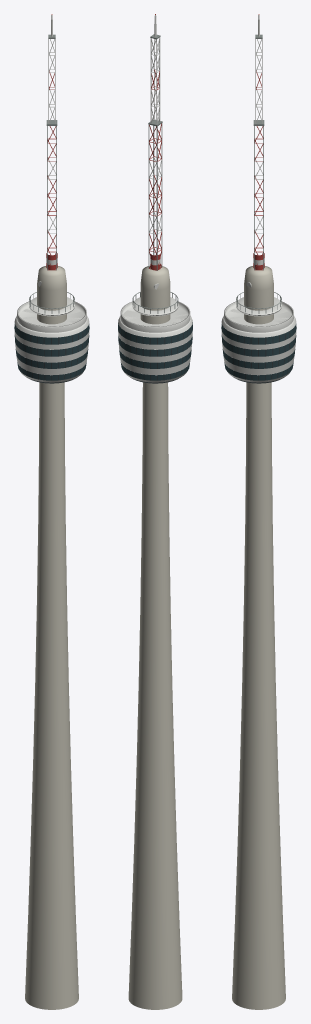
Rendered from fernsehturm-stuttgart-far.glb.
The picture shows the model from 3 angles, left to right: view 1: azimuth 90°, elevation 25°; view 2: azimuth 150°, elevation 25°; view 3: azimuth 270°, elevation 25°; orthographic projection.
Visible parts, largest first — view 1: fernsehturm-stuttgart-0-concrete, fernsehturm-stuttgart-0-aluminium, fernsehturm-stuttgart-0-glow, fernsehturm-stuttgart-0-steel, fernsehturm-stuttgart-0-dark, fernsehturm-stuttgart-0-red; view 2: fernsehturm-stuttgart-0-concrete, fernsehturm-stuttgart-0-aluminium, fernsehturm-stuttgart-0-glow, fernsehturm-stuttgart-0-steel, fernsehturm-stuttgart-0-red, fernsehturm-stuttgart-0-dark; view 3: fernsehturm-stuttgart-0-concrete, fernsehturm-stuttgart-0-aluminium, fernsehturm-stuttgart-0-glow, fernsehturm-stuttgart-0-steel, fernsehturm-stuttgart-0-dark, fernsehturm-stuttgart-0-red.
Boxes of the visible parts, x1,y1,x2,y2 form: fernsehturm-stuttgart-0-concrete: [25, 266, 78, 1009]; fernsehturm-stuttgart-0-aluminium: [14, 15, 89, 382]; fernsehturm-stuttgart-0-glow: [14, 323, 89, 380]; fernsehturm-stuttgart-0-steel: [29, 34, 74, 313]; fernsehturm-stuttgart-0-dark: [15, 325, 89, 383]; fernsehturm-stuttgart-0-red: [46, 70, 57, 270]; fernsehturm-stuttgart-0-concrete: [128, 266, 182, 1009]; fernsehturm-stuttgart-0-aluminium: [118, 15, 192, 382]; fernsehturm-stuttgart-0-glow: [118, 322, 192, 380]; fernsehturm-stuttgart-0-steel: [132, 34, 178, 313]; fernsehturm-stuttgart-0-red: [149, 69, 161, 270]; fernsehturm-stuttgart-0-dark: [118, 326, 192, 383]; fernsehturm-stuttgart-0-concrete: [232, 266, 285, 1009]; fernsehturm-stuttgart-0-aluminium: [221, 15, 296, 382]; fernsehturm-stuttgart-0-glow: [221, 323, 296, 380]; fernsehturm-stuttgart-0-steel: [236, 34, 281, 313]; fernsehturm-stuttgart-0-dark: [222, 325, 296, 383]; fernsehturm-stuttgart-0-red: [253, 70, 264, 270].
Size of the model in its own units: 14.99 by 217 by 14.99.
